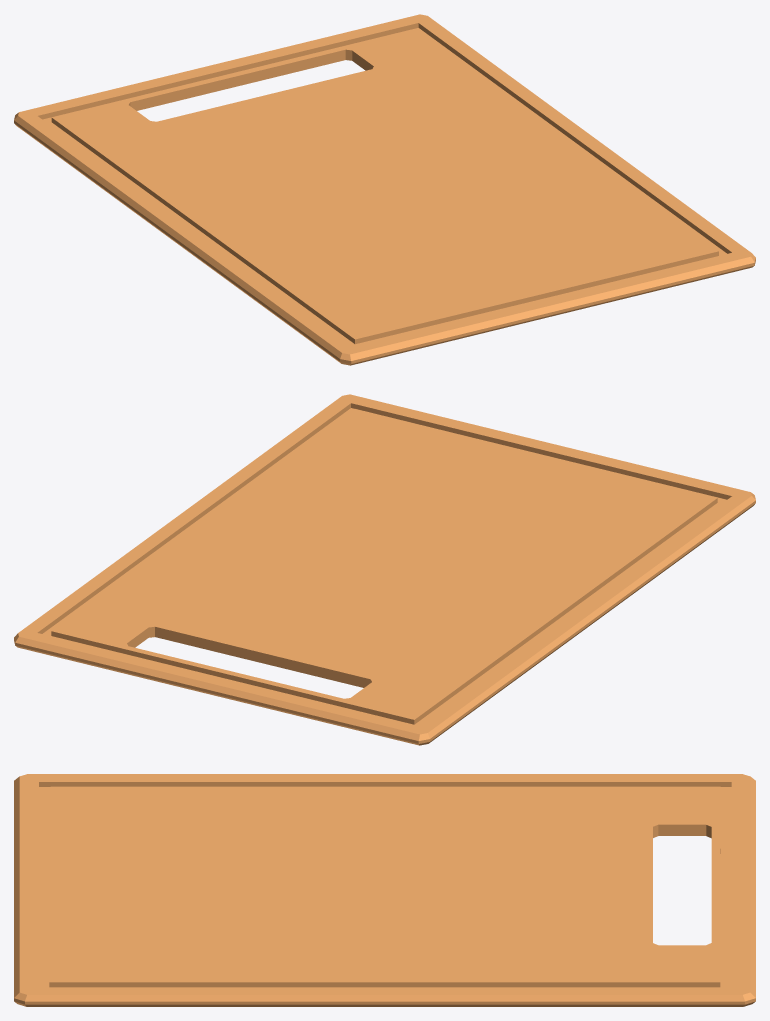
Rendered from table.fbx.
3 renders of one model, top to bottom at view 1: azimuth 30°, elevation 25°; view 2: azimuth 150°, elevation 25°; view 3: azimuth 270°, elevation 25°, orthographic. The views are drawn at different scales.
Parts seen in each view (by area): view 1: Plane; view 2: Plane; view 3: Plane.
Boxes of the visible parts, left/top/right/bottom form: Plane: left=14, top=14, right=755, bottom=365; Plane: left=14, top=394, right=755, bottom=745; Plane: left=14, top=774, right=755, bottom=1006.
Size of the model in its own units: 600 by 14.3 by 840.
